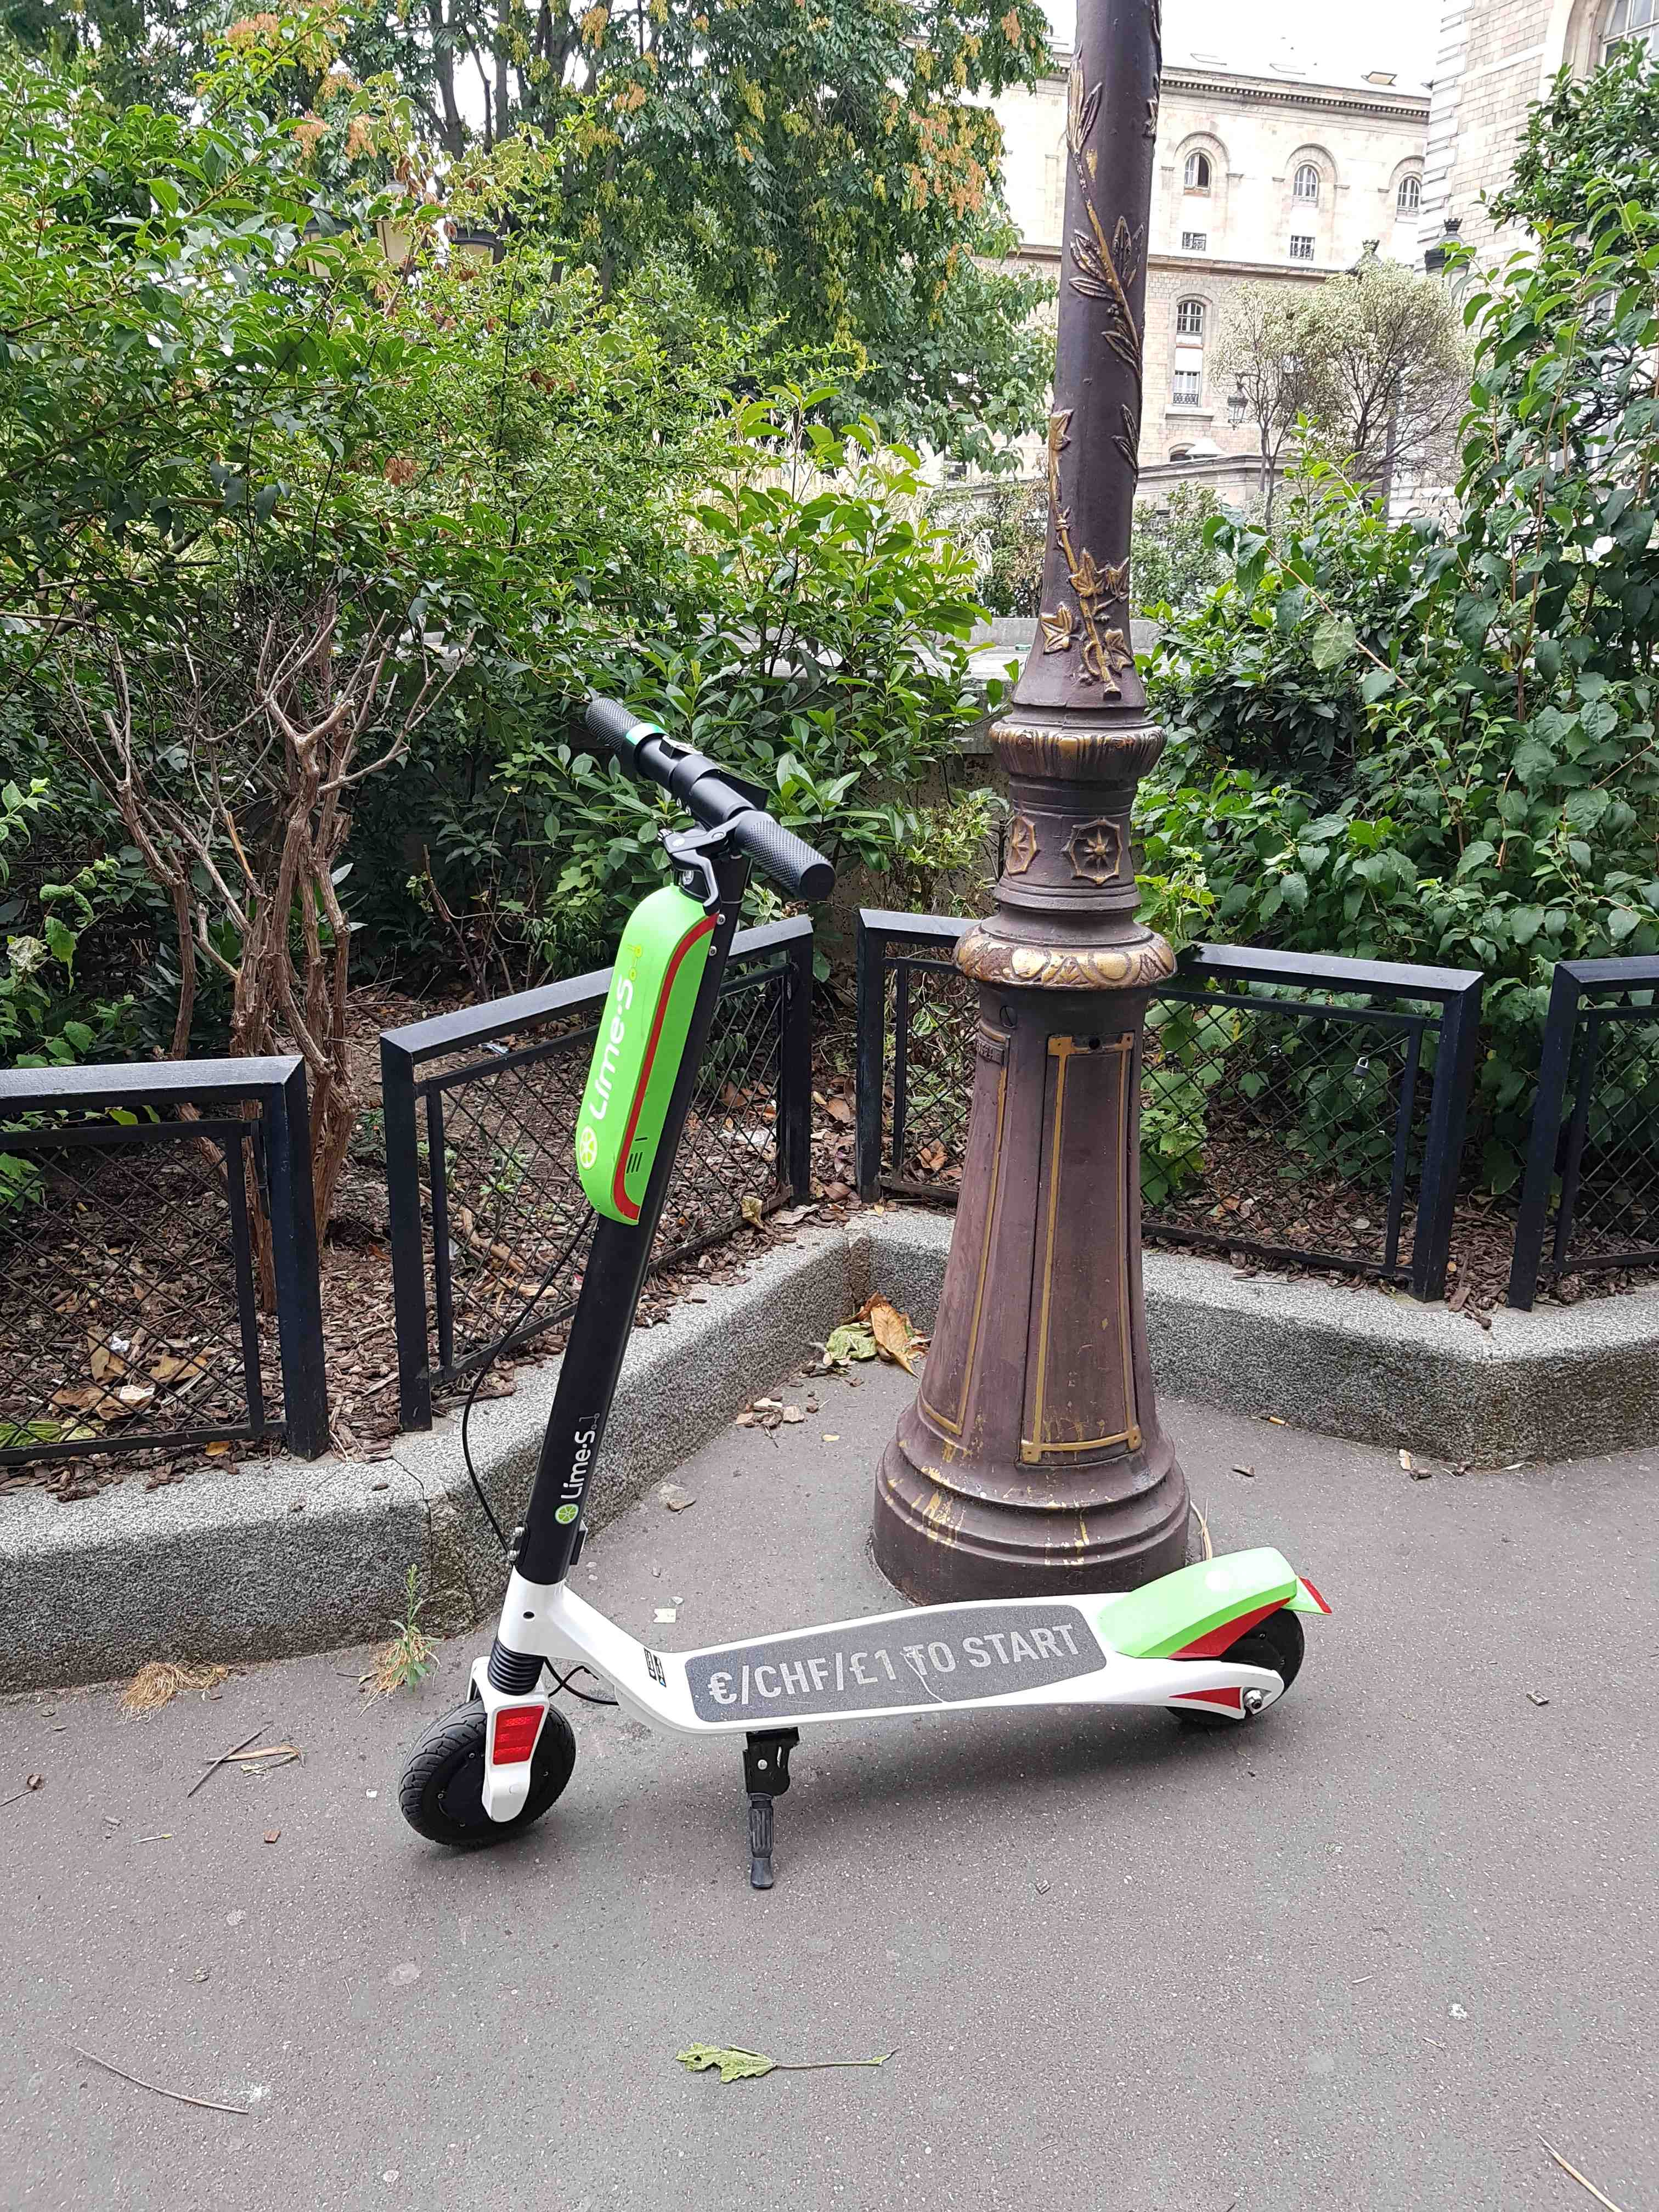scooter: (397, 672, 1344, 1907)
